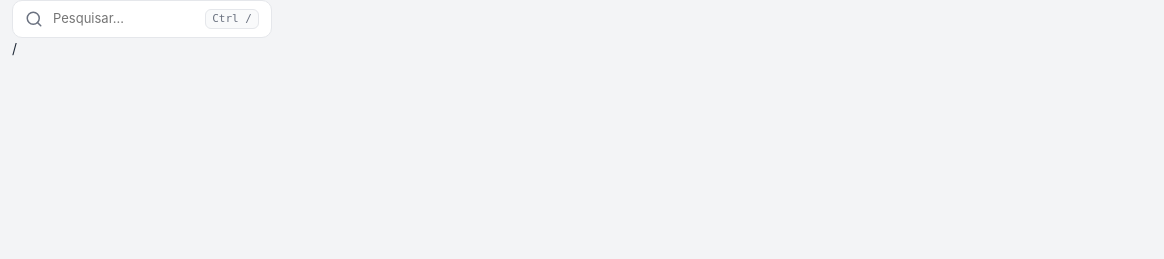
GlobalSearch › não busca usuários para perfis não administradores e mostra estado vazio
The image size is (1164, 259).
Type "rio" into the dropdown.
click(124, 19); type("rio")  # box top-left (51, 8), bottom-right (197, 30)
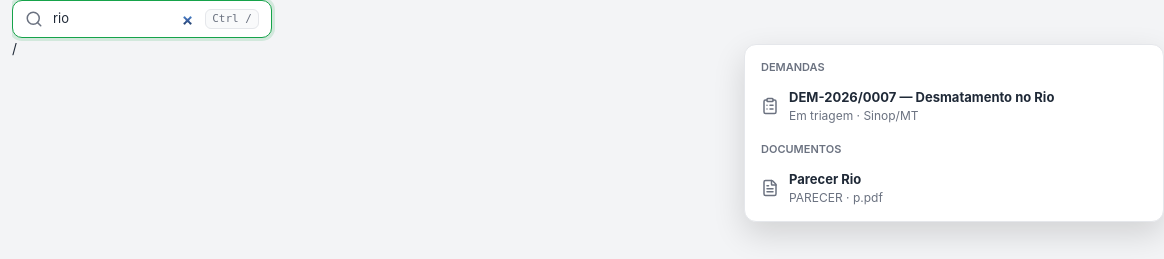
expect the text "Parecer Rio" is shown: met, box top-left (789, 170), bottom-right (861, 186)
Replace the text in the dropdown with "zzz" at (124, 19), box top-left (51, 8), bottom-right (197, 30)
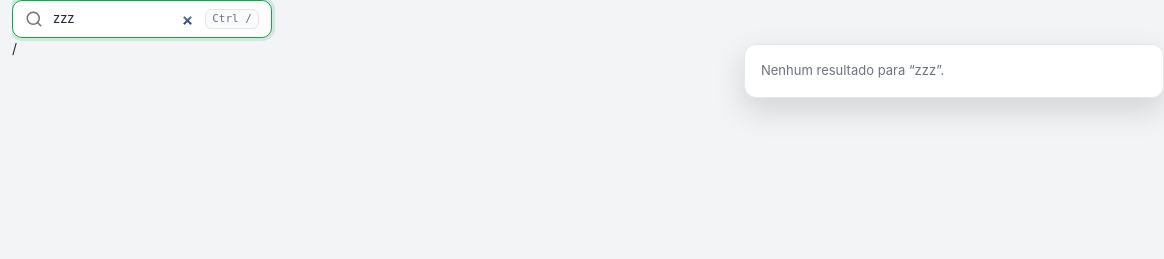
expect the text "Nenhum resultado para “zzz”." is shown: met, box top-left (761, 62), bottom-right (944, 78)
